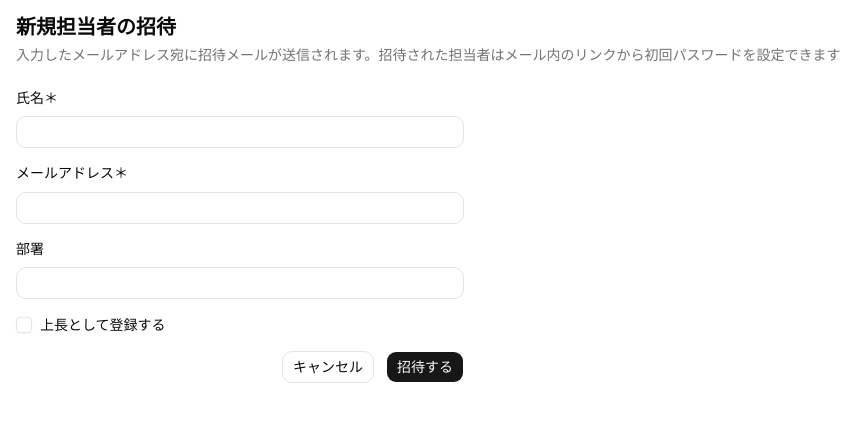
SalesPersonInviteForm › rejects submission when name is empty
Type "sato@example.com" into the field labelled "メールアドレス＊" at {"x": 240, "y": 208}, box [16,192,464,224]
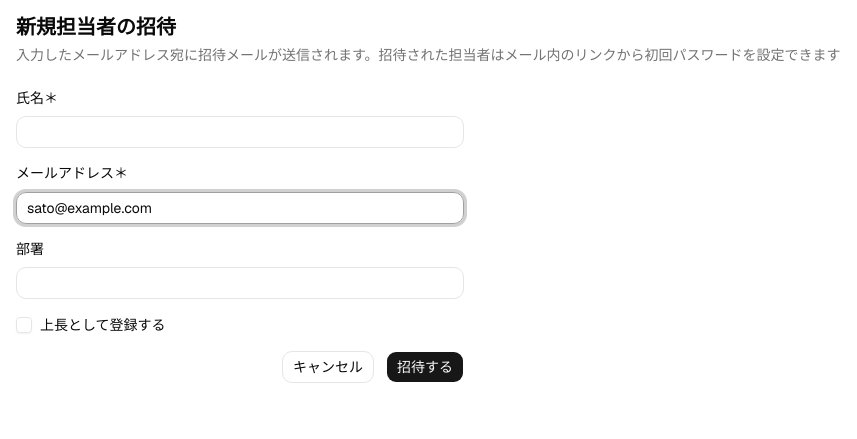
Click the button "招待する" at {"x": 425, "y": 367}, box [386,351,464,383]
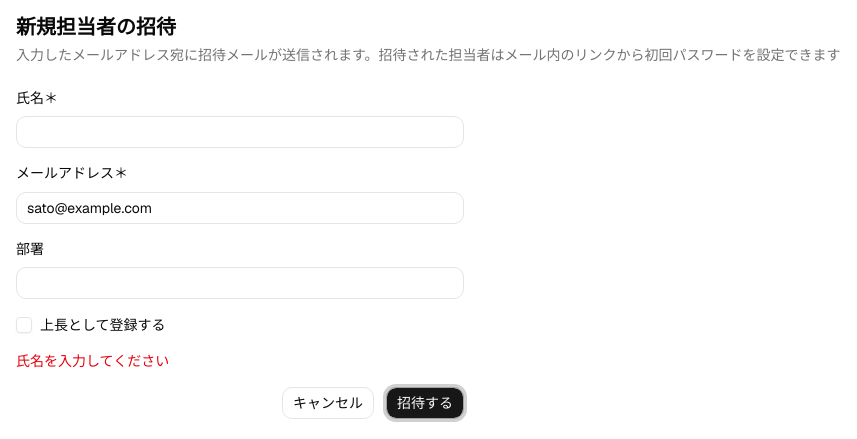
Now the text "氏名を入力してください" is shown, box [16,352,169,370]
